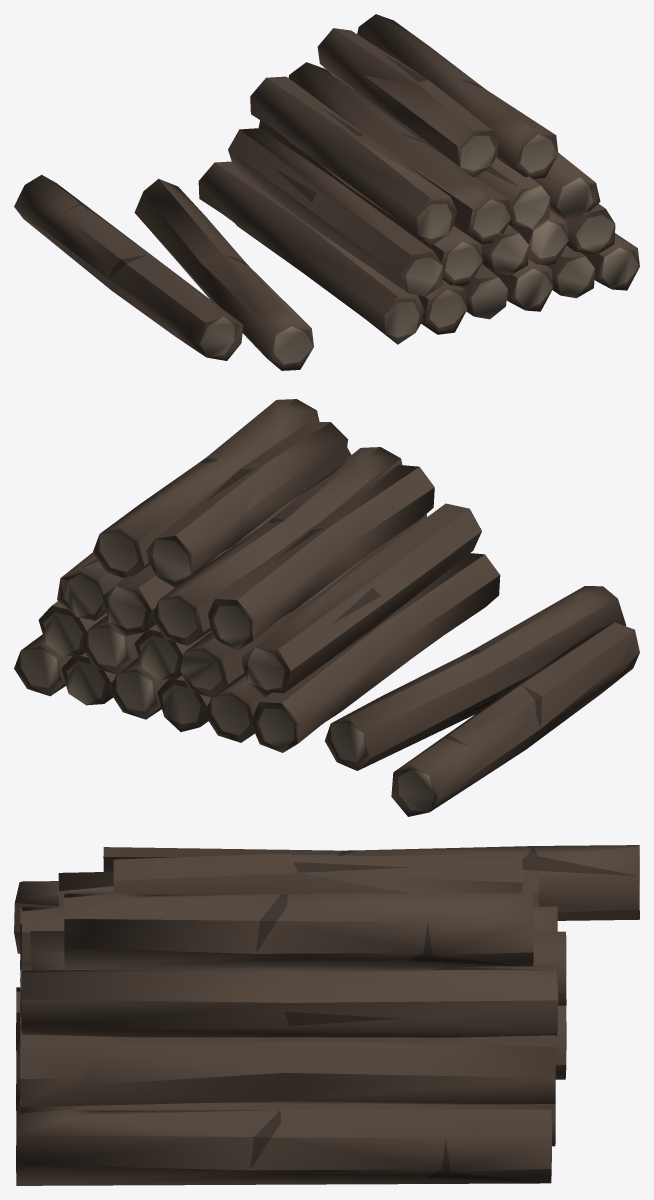
File: farm_logs_1.glb
The picture shows the model from 3 angles, top to bottom: view 1: azimuth 30°, elevation 25°; view 2: azimuth 150°, elevation 25°; view 3: azimuth 270°, elevation 25°; orthographic projection. The views are drawn at different scales.
Parts seen in each view (by area): view 1: farm_logs_1; view 2: farm_logs_1; view 3: farm_logs_1.
Boxes of the visible parts, x1,y1,x2,y2 form: farm_logs_1: (14, 14, 639, 370); farm_logs_1: (14, 399, 639, 816); farm_logs_1: (14, 845, 639, 1185).
Size of the model in its own units: 1.05 by 0.4146 by 0.939.
1 material, 1 textured.
